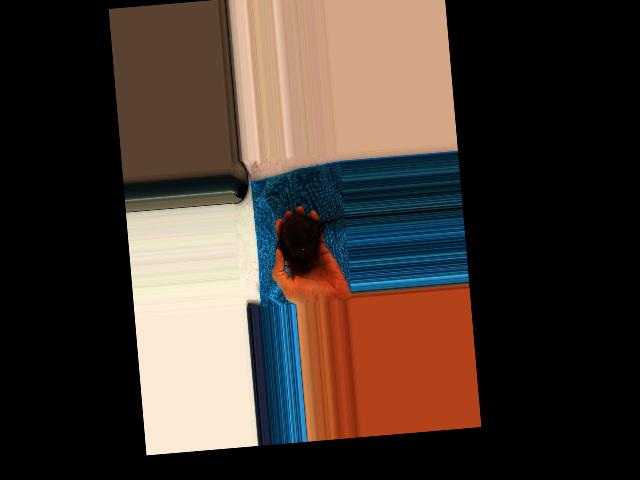beet: (272, 209, 349, 271)
